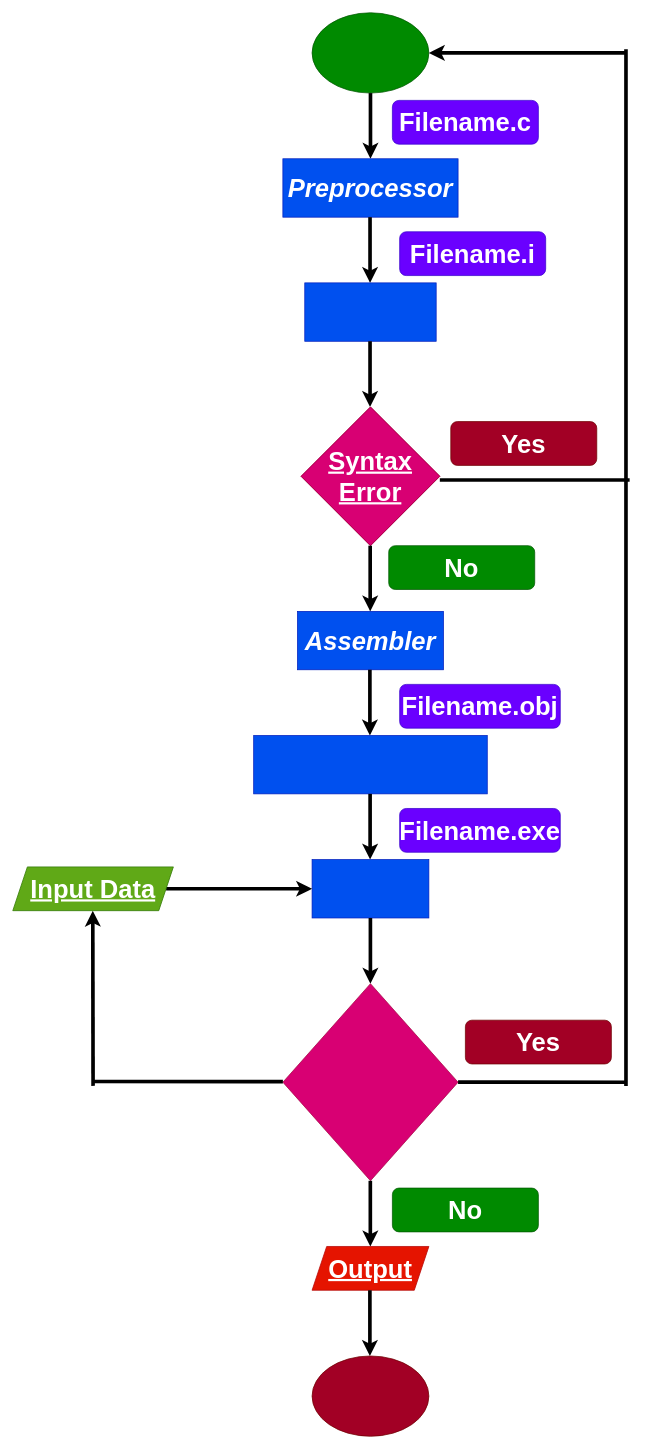
This 646x1449 diagram has some shape labels left out. Each missing label, with the box of its shape:
Compiler: (304, 282, 436, 341)
Execute: (311, 859, 429, 918)
Link with System Libraries: (253, 735, 487, 794)
Logic and Data Error: (282, 983, 458, 1181)
Source Code: (311, 12, 429, 93)
Stop: (311, 1355, 429, 1436)
